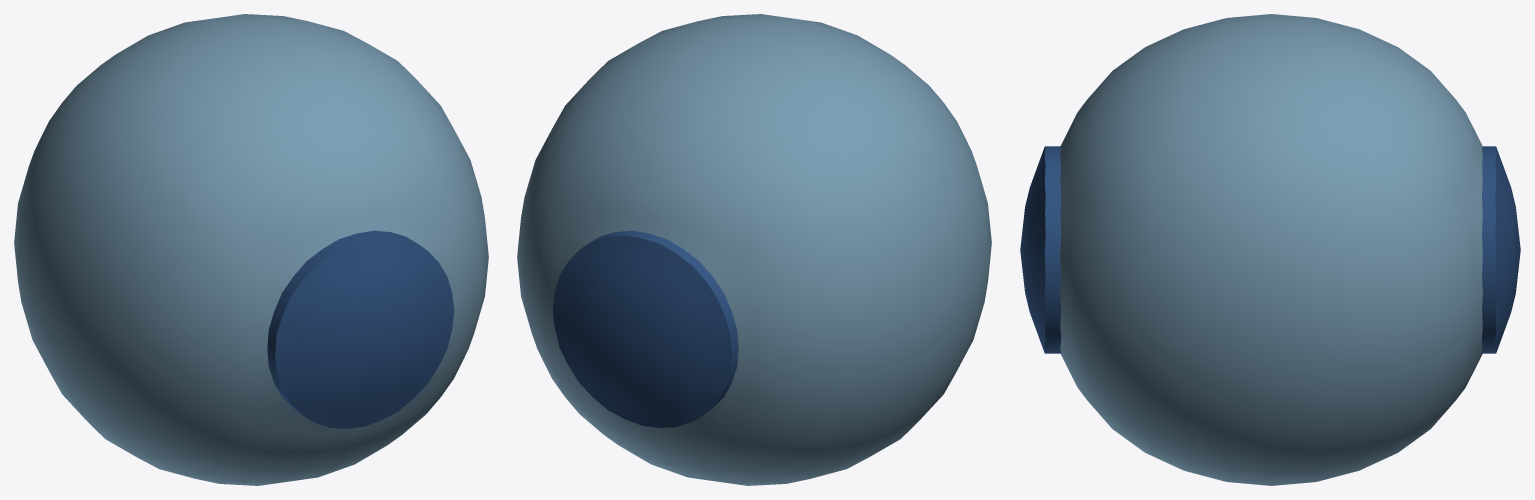
Rendered from HamsterBall.fbx.
3 renders of one model, left to right at view 1: azimuth 30°, elevation 25°; view 2: azimuth 150°, elevation 25°; view 3: azimuth 270°, elevation 25°, orthographic.
Parts seen in each view (by area): view 1: Cube; view 2: Cube; view 3: Cube.
Boxes of the visible parts, x1,y1,x2,y2 form: Cube: [14, 14, 488, 485]; Cube: [517, 14, 991, 485]; Cube: [1020, 14, 1520, 485].
Bounding box in the file's own units: 310 × 310 × 332.
